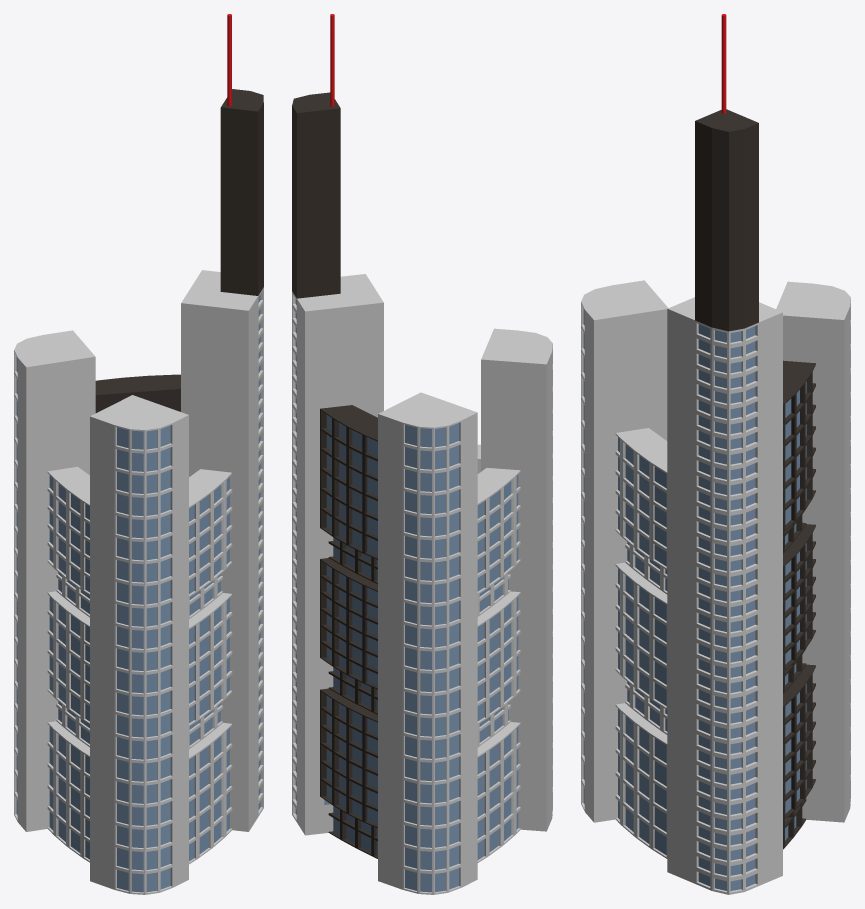
Rendered from CommerzbankTower.fbx.
3 renders of one model, left to right at view 1: azimuth 30°, elevation 25°; view 2: azimuth 150°, elevation 25°; view 3: azimuth 270°, elevation 25°, orthographic. The views are drawn at different scales.
Visible parts, largest first — view 1: Box001; view 2: Box001; view 3: Box001.
Boxes of the visible parts, x1=… form: Box001: x1=14, y1=14, x2=263, y2=894; Box001: x1=292, y1=14, x2=552, y2=894; Box001: x1=581, y1=14, x2=850, y2=894.
Size of the model in its own units: 445 by 1592 by 452.
